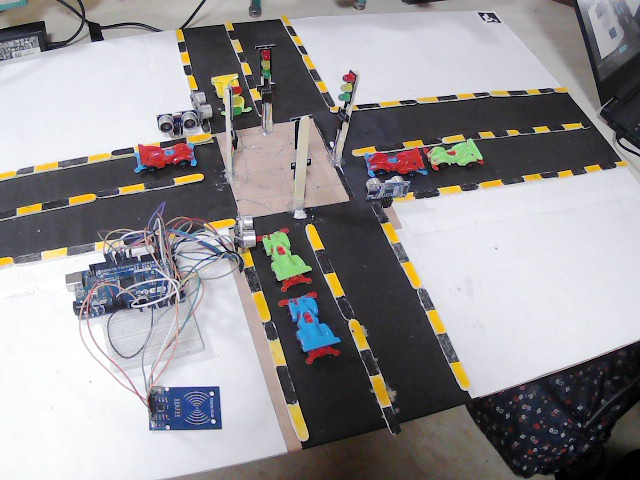aruco_marker: (475, 10, 501, 24)
black_strip: (278, 364, 300, 401), (356, 349, 382, 374), (59, 154, 90, 172), (179, 221, 206, 239), (436, 334, 456, 358), (380, 404, 400, 428), (41, 194, 64, 213), (94, 184, 121, 200), (311, 249, 332, 269), (338, 289, 354, 314), (68, 242, 96, 256), (144, 177, 173, 190), (390, 243, 408, 261), (416, 291, 433, 310), (377, 140, 400, 153), (246, 270, 260, 291), (356, 102, 381, 113), (161, 137, 186, 148), (373, 204, 389, 221), (126, 233, 150, 244), (415, 188, 440, 198), (15, 254, 40, 264), (265, 318, 278, 335), (502, 175, 521, 186), (111, 148, 133, 157), (1, 206, 14, 221), (421, 136, 440, 146), (226, 24, 239, 37), (322, 92, 334, 106), (548, 121, 563, 132), (510, 86, 525, 97), (16, 167, 33, 176), (545, 170, 560, 180), (460, 180, 475, 190), (255, 100, 264, 115), (570, 167, 582, 178), (177, 40, 188, 51), (495, 128, 510, 136), (243, 76, 255, 86), (540, 86, 553, 95), (400, 99, 419, 105), (518, 125, 534, 132), (312, 69, 321, 81), (284, 26, 295, 35), (237, 51, 246, 62), (473, 91, 489, 97), (437, 95, 456, 100), (601, 159, 611, 168), (202, 120, 210, 131), (185, 62, 192, 74), (468, 132, 478, 140), (295, 45, 304, 52), (586, 122, 592, 130)
car: (277, 289, 346, 364), (255, 224, 315, 291), (421, 142, 487, 179), (135, 142, 200, 173), (366, 148, 424, 177), (212, 72, 238, 104)
mixed_lane: (301, 221, 401, 434), (377, 206, 468, 390), (238, 250, 311, 442), (3, 170, 206, 222), (398, 157, 626, 202), (357, 113, 598, 154), (0, 231, 158, 271), (355, 86, 568, 113), (278, 16, 337, 112), (1, 146, 135, 182), (222, 14, 262, 110), (171, 21, 200, 93), (166, 219, 233, 239), (144, 134, 211, 149), (197, 118, 214, 133)
traffic_light: (255, 40, 277, 103), (335, 70, 359, 125), (224, 86, 243, 151)
uno_breadboard: (63, 240, 187, 319), (98, 297, 208, 374), (142, 378, 224, 434), (364, 175, 411, 202), (158, 108, 197, 135), (230, 211, 256, 250), (188, 88, 212, 120)
yellow_strip: (282, 401, 309, 441), (371, 372, 393, 407), (348, 318, 369, 350), (253, 291, 273, 322), (305, 221, 324, 252), (448, 361, 467, 389), (61, 192, 96, 207), (402, 260, 421, 287), (269, 337, 286, 366), (326, 271, 344, 298), (15, 200, 41, 218), (41, 246, 65, 263), (440, 180, 462, 198), (94, 237, 117, 252), (477, 177, 511, 186), (381, 223, 397, 242), (428, 312, 444, 331), (519, 171, 544, 183), (32, 163, 57, 175), (206, 220, 232, 231), (177, 173, 202, 184), (394, 189, 413, 203), (562, 120, 586, 131), (187, 134, 209, 146), (88, 153, 111, 164), (119, 183, 144, 193), (241, 251, 254, 269), (354, 144, 375, 155), (443, 136, 464, 146), (489, 89, 510, 99), (187, 72, 198, 91), (303, 54, 315, 70), (613, 160, 630, 171), (378, 99, 401, 107), (402, 138, 417, 150), (557, 167, 572, 179), (229, 37, 241, 52), (0, 256, 12, 271), (583, 163, 599, 174), (224, 16, 235, 31), (165, 229, 179, 240), (251, 86, 262, 99), (2, 169, 15, 180), (179, 53, 189, 67), (481, 128, 493, 139), (288, 35, 301, 45), (421, 95, 439, 102), (176, 26, 184, 41), (533, 125, 546, 134), (241, 64, 251, 75), (459, 93, 475, 99), (555, 86, 568, 93), (318, 82, 327, 92), (527, 88, 540, 94), (146, 143, 160, 148), (283, 18, 290, 26), (510, 128, 516, 135)
